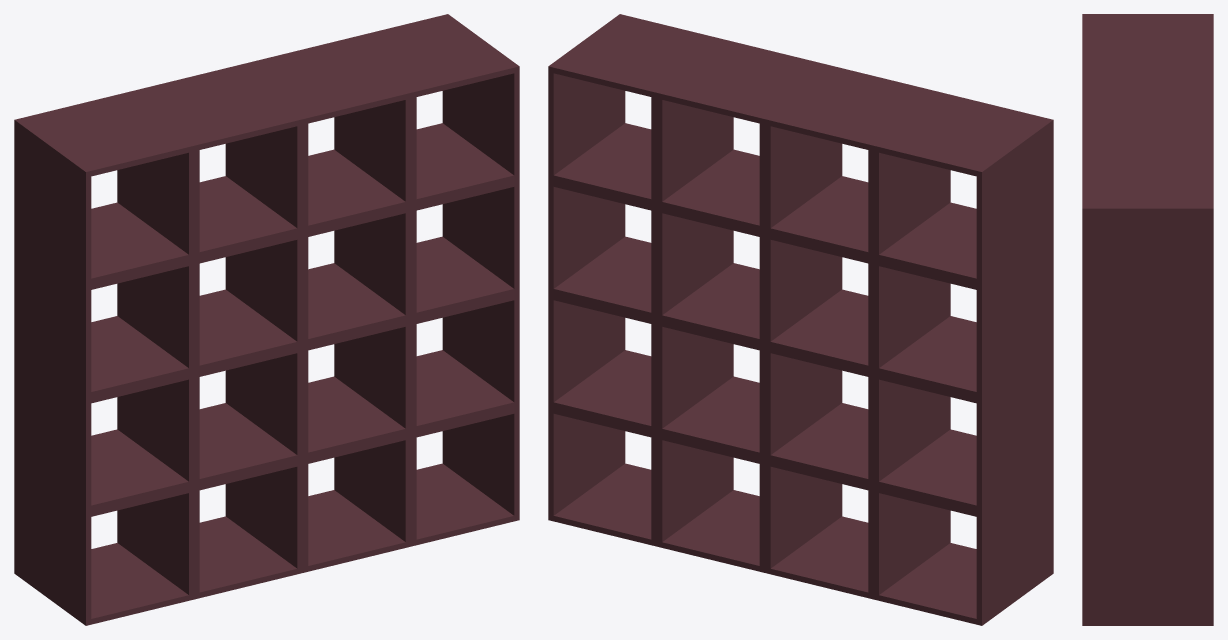
File: cabinet-big.fbx
3 views of the same model, side by side, from view 1: azimuth 30°, elevation 25°; view 2: azimuth 150°, elevation 25°; view 3: azimuth 270°, elevation 25° (orthographic). The views are drawn at different scales.
Visible parts, largest first — view 1: cabinet-big; view 2: cabinet-big; view 3: cabinet-big.
Boxes of the visible parts, bbox=[...] form: cabinet-big: bbox=[14, 14, 519, 625]; cabinet-big: bbox=[548, 14, 1053, 625]; cabinet-big: bbox=[1082, 14, 1213, 625].
Bounding box in the file's own units: 1.4 × 1.4 × 0.4.
